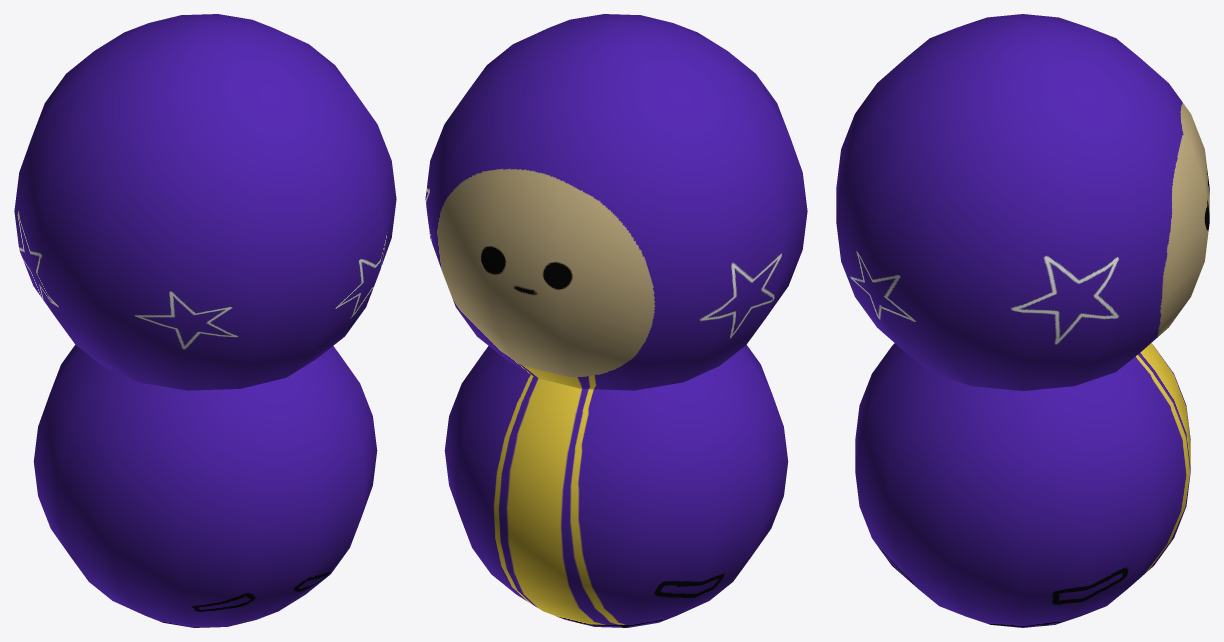
File: OBS0110193.fbx
The picture shows the model from 3 angles, left to right: view 1: azimuth 30°, elevation 25°; view 2: azimuth 150°, elevation 25°; view 3: azimuth 270°, elevation 25°; orthographic projection.
Parts seen in each view (by area): view 1: smOBS0110193; view 2: smOBS0110193; view 3: smOBS0110193.
Part boxes in pixels (x1,y1,x2,y2): smOBS0110193: [14, 14, 396, 627]; smOBS0110193: [425, 14, 807, 627]; smOBS0110193: [836, 14, 1209, 627].
Size of the model in its own units: 169 by 283 by 165.
Materials: 1 (1 with a texture image).
